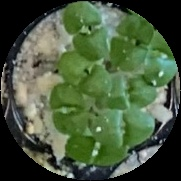Basil: (61, 0, 108, 60), (110, 12, 151, 71), (64, 132, 124, 168), (60, 54, 112, 95), (97, 76, 156, 111), (143, 31, 181, 85), (49, 82, 86, 135), (98, 109, 152, 142)
